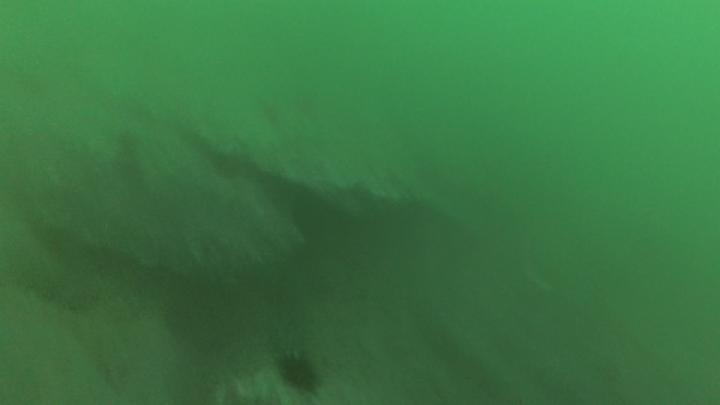echinus: (273, 348, 324, 396)
